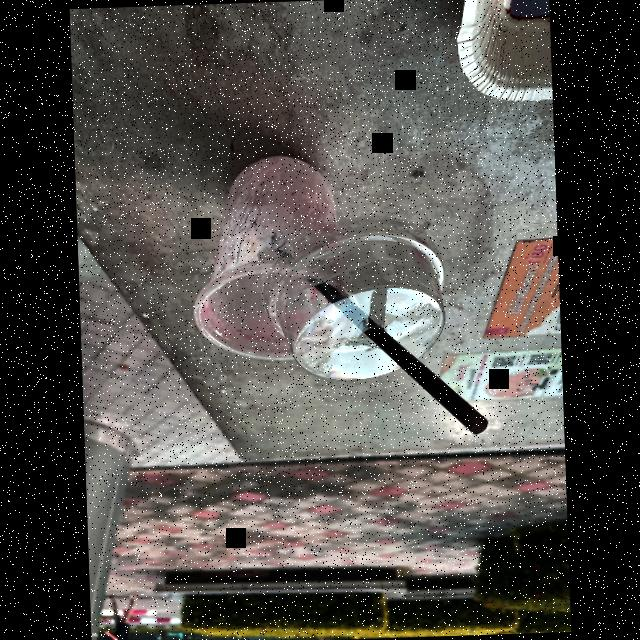plastic_cup: (186, 154, 352, 370)
plastic_cup_lid: (271, 216, 454, 389)
straw: (294, 261, 509, 452)
